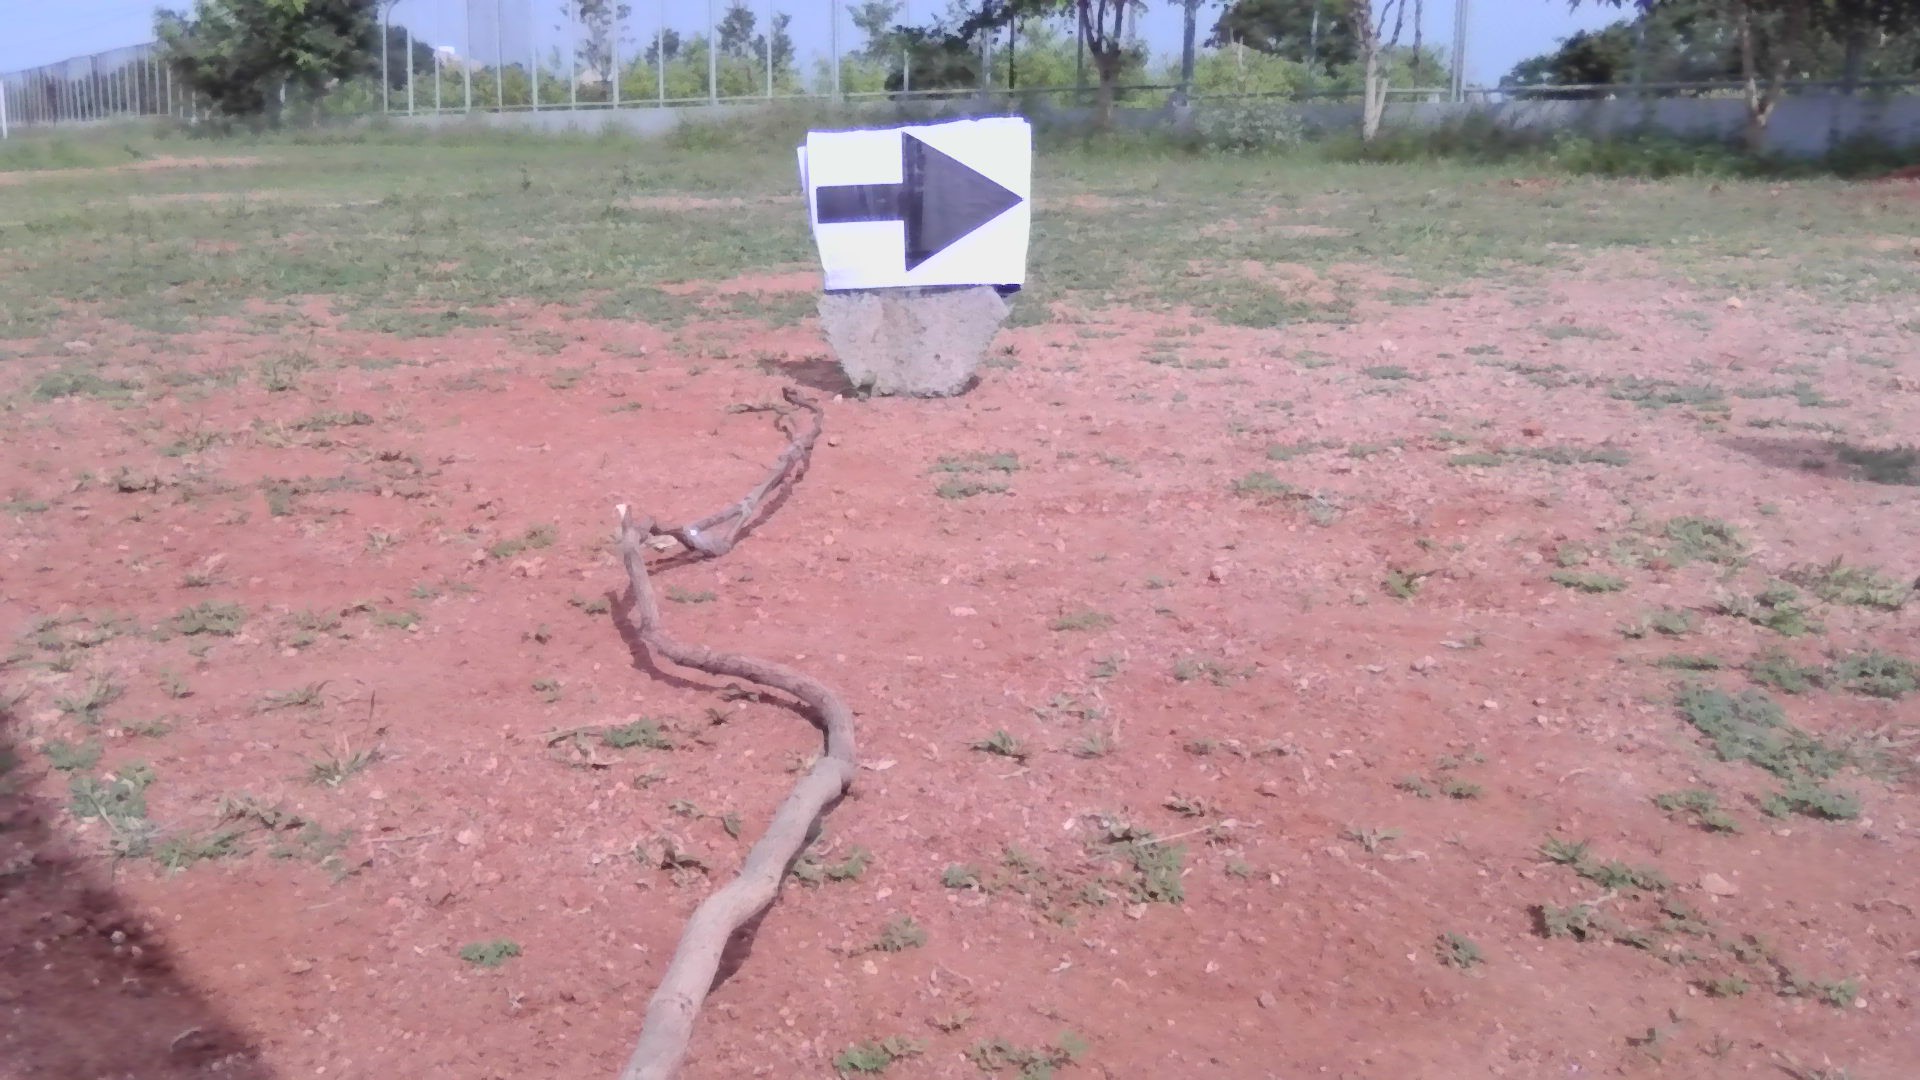leftDir: (806, 117, 1025, 293)
